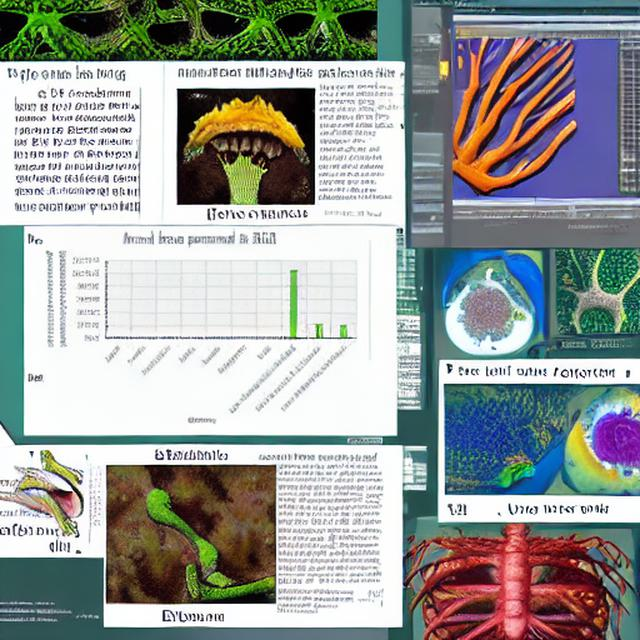Graph: (55, 228, 363, 433)
